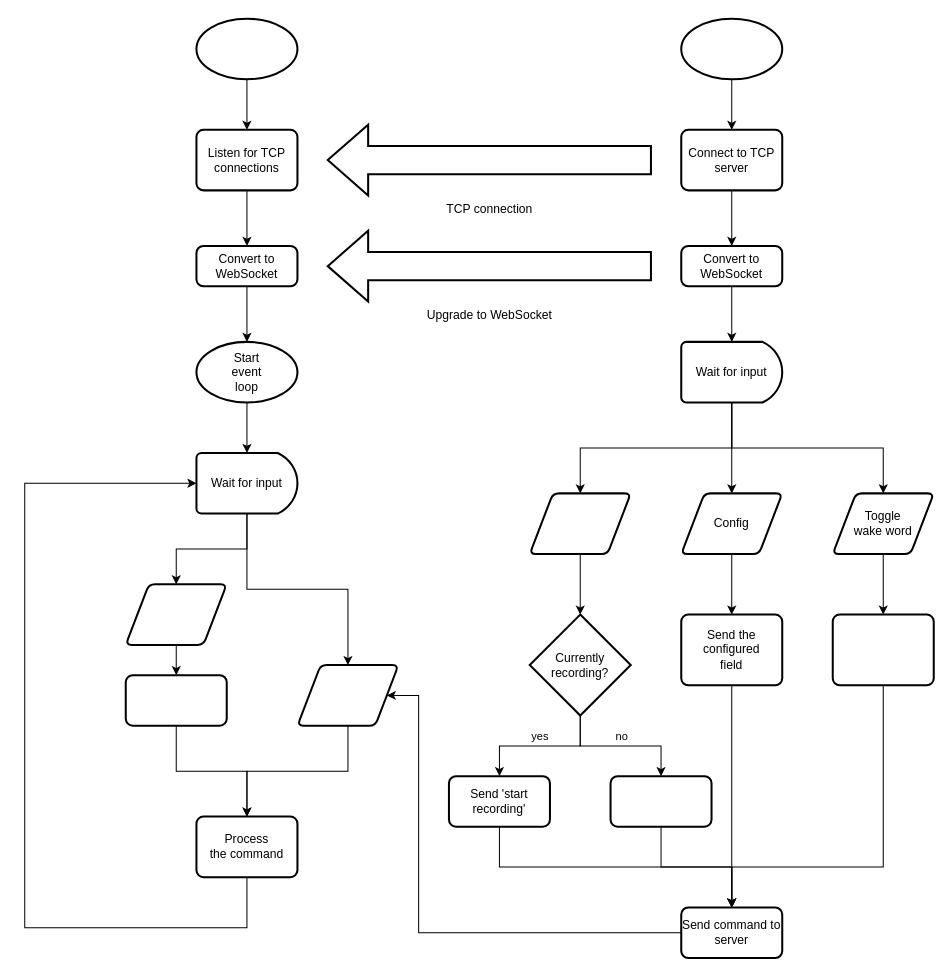
Some shapes in this 952 by 976 pixel diagram are drawn without their labels. Here are the shapes that lost their labels. From the top down, the box of each, then its label:
(195, 17, 298, 80): Start server
(680, 17, 783, 80): Start client
(528, 492, 631, 554): Toggle recording state
(124, 583, 227, 645): Wake word detected
(831, 613, 934, 686): Send 'toggle wake word'
(124, 674, 227, 726): Send 'start recording' command
(296, 664, 399, 726): Command from client
(609, 775, 712, 827): Send 'stop recording'
